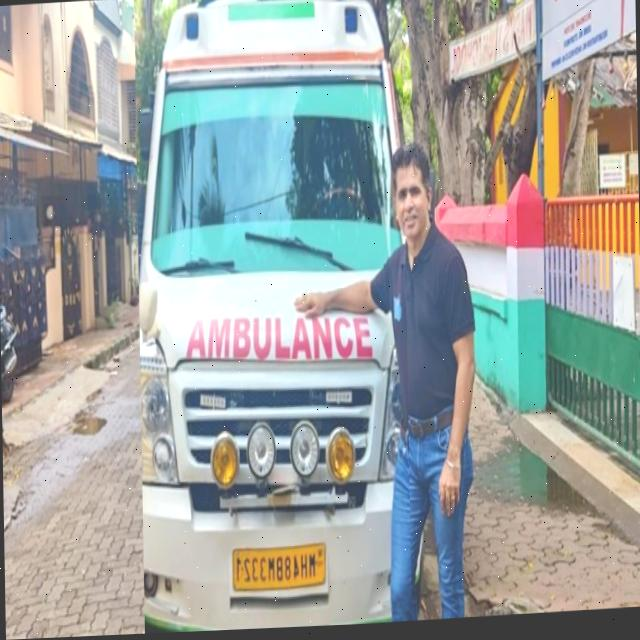Ambulance: (133, 0, 411, 635)
